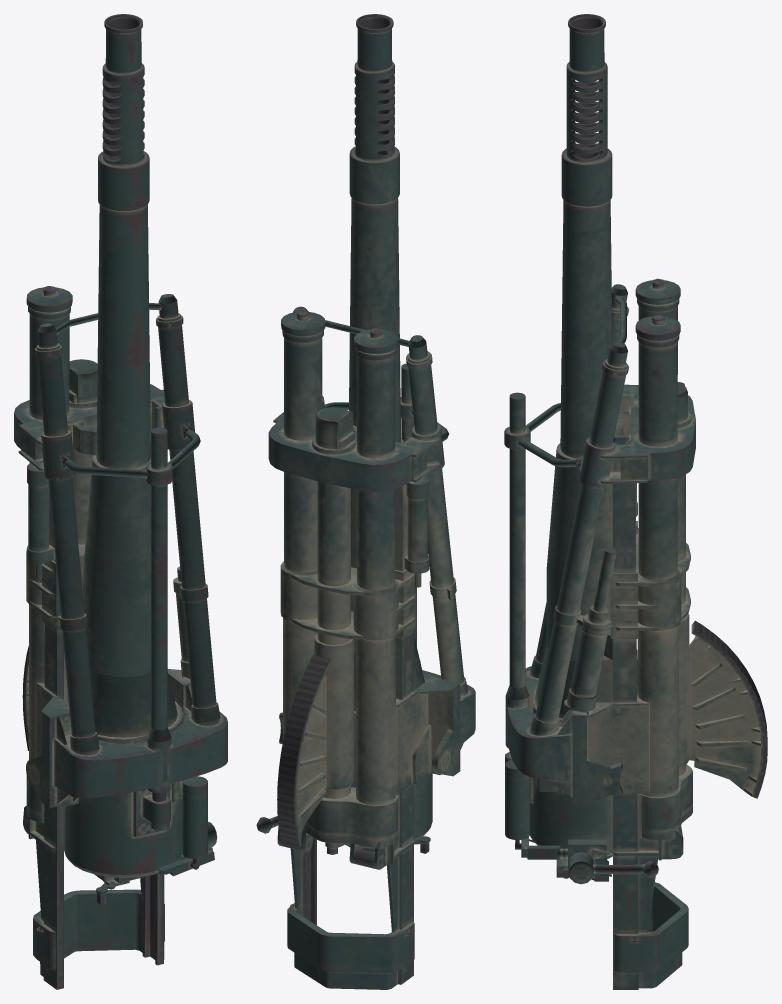
File: Gun_01.glb
The picture shows the model from 3 angles, left to right: view 1: azimuth 30°, elevation 25°; view 2: azimuth 150°, elevation 25°; view 3: azimuth 270°, elevation 25°; orthographic projection. The views are drawn at different scales.
Parts seen in each view (by area): view 1: set_0_group_0; view 2: set_0_group_0; view 3: set_0_group_0.
Boxes of the visible parts, x1,y1,x2,y2 form: set_0_group_0: [14, 14, 227, 989]; set_0_group_0: [256, 14, 475, 989]; set_0_group_0: [504, 14, 767, 989].
Size of the model in its own units: 0.9442 by 5.1 by 1.29.
1 material, 1 textured.
